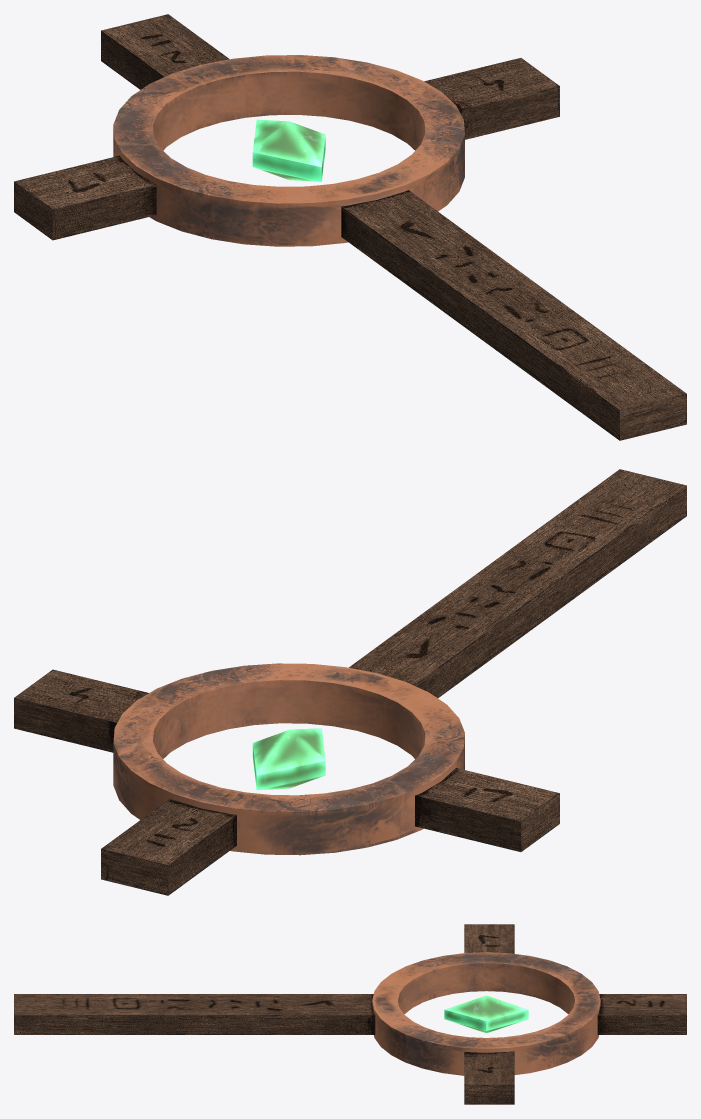
Rendered from stylized_cross.glb.
The picture shows the model from 3 angles, top to bottom: view 1: azimuth 30°, elevation 25°; view 2: azimuth 150°, elevation 25°; view 3: azimuth 270°, elevation 25°; orthographic projection. The views are drawn at different scales.
Parts seen in each view (by area): view 1: Cross1_low, Cross2_low; view 2: Cross1_low, Cross2_low; view 3: Cross1_low, Cross2_low.
Boxes of the visible parts, left/top/right/bottom form: Cross1_low: left=14, top=14, right=686, bottom=440; Cross2_low: left=113, top=55, right=464, bottom=246; Cross1_low: left=14, top=469, right=686, bottom=895; Cross2_low: left=113, top=663, right=464, bottom=855; Cross1_low: left=14, top=924, right=686, bottom=1104; Cross2_low: left=372, top=952, right=600, bottom=1075.
Size of the model in its own units: 93.71 by 10.4 by 166.
1 material, 1 textured.
